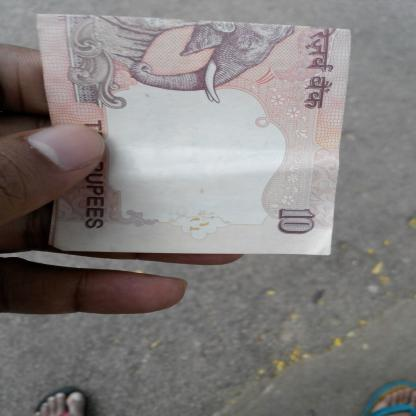Old10Back: (34, 13, 352, 256)
